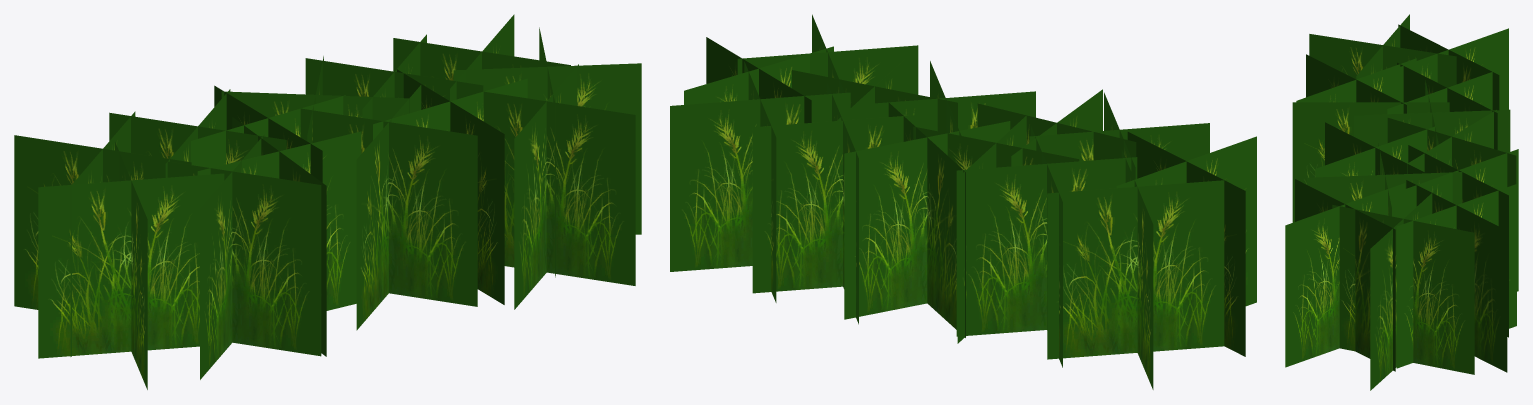
The model's file is INST_HTOWN_WHEATPLANTA.fbx.
3 renders of one model, left to right at view 1: azimuth 30°, elevation 25°; view 2: azimuth 150°, elevation 25°; view 3: azimuth 270°, elevation 25°, orthographic. The views are drawn at different scales.
Parts seen in each view (by area): view 1: INST_HTOWN_WHEATPLANTA; view 2: INST_HTOWN_WHEATPLANTA; view 3: INST_HTOWN_WHEATPLANTA.
Part boxes in pixels (box(x1,y1,x2,y2)): INST_HTOWN_WHEATPLANTA: box(14, 14, 641, 389); INST_HTOWN_WHEATPLANTA: box(670, 14, 1256, 389); INST_HTOWN_WHEATPLANTA: box(1285, 14, 1518, 390).
Size of the model in its own units: 34649 by 9782 by 14568.
Materials: 1 (1 with a texture image).
